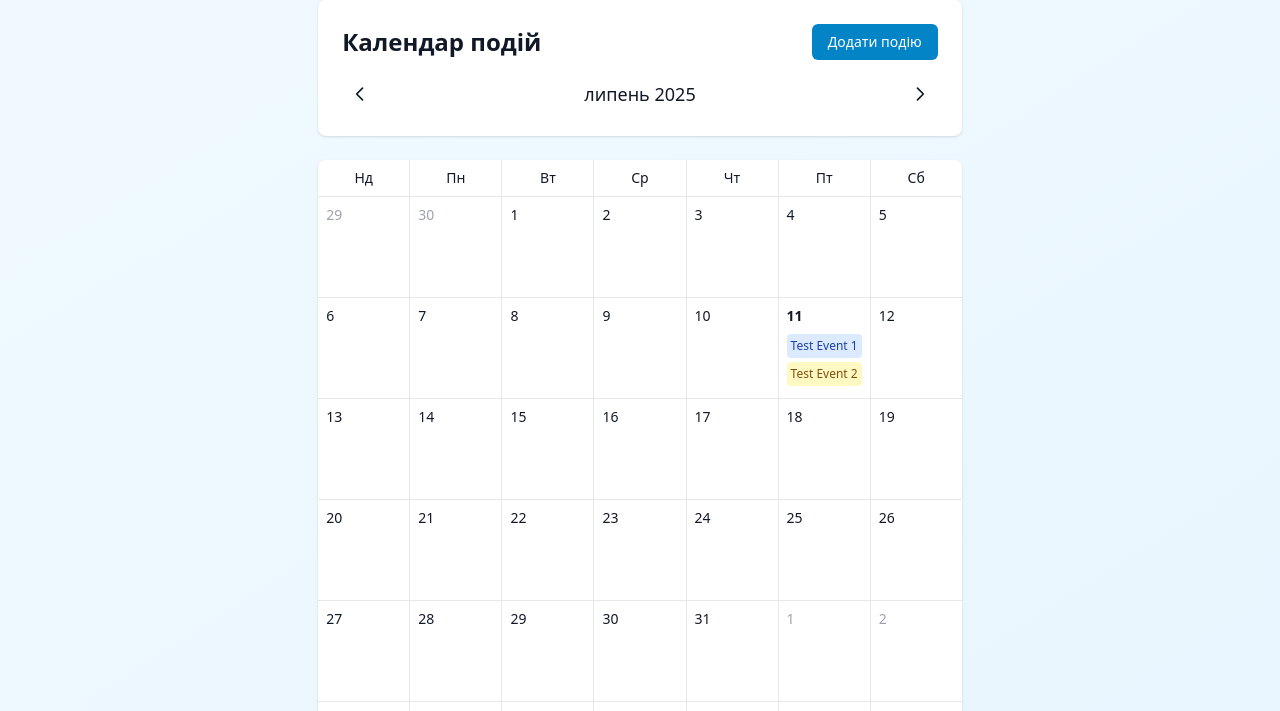
it: CalendarView › deletes event when delete button is clicked
Click the text with class "truncate" showing "Test Event 1" at [824, 346], box [787,334,862,358]
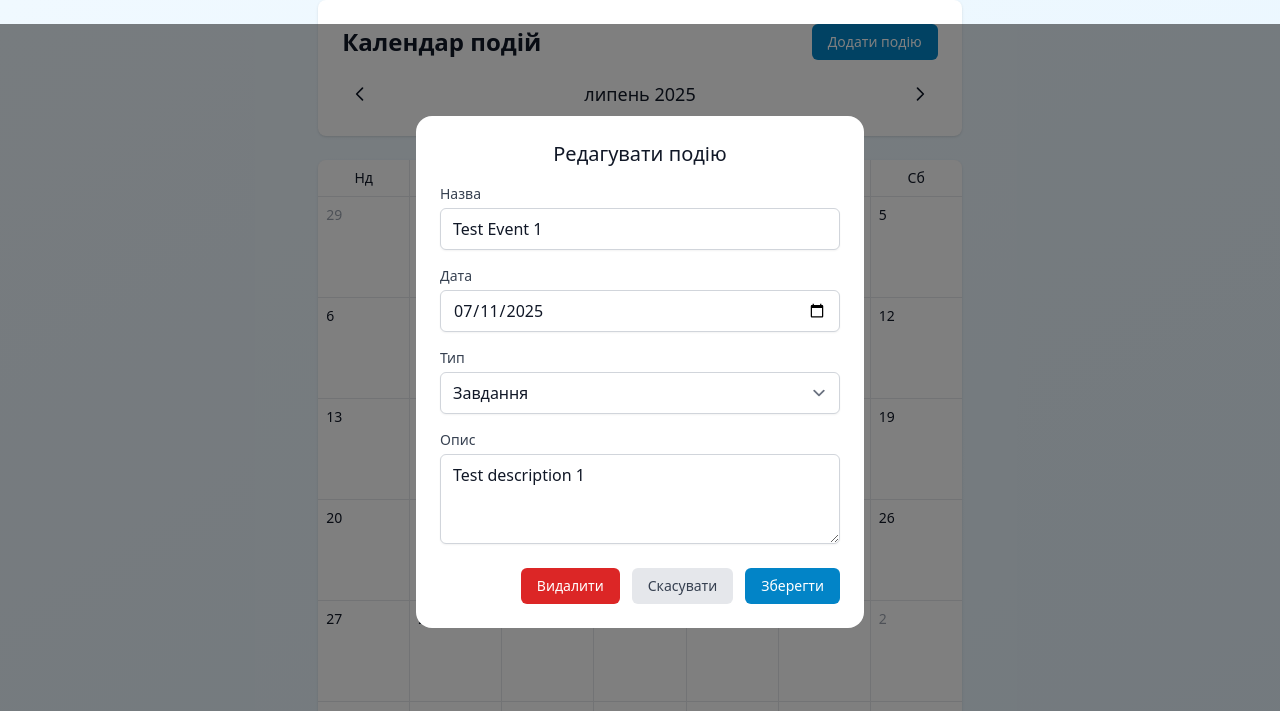
Expected: the button with class "btn-danger" is shown
Click the button with class "btn-danger" at [570, 586], box [521,568,620,604]
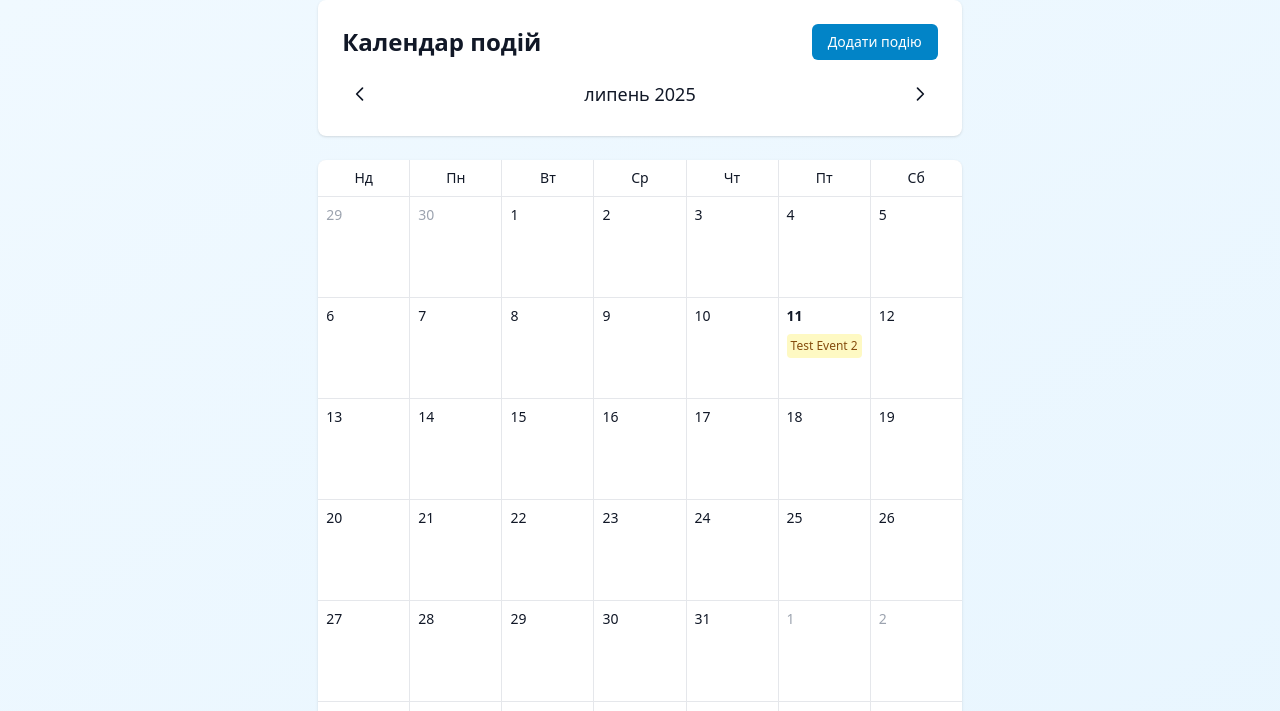
Expected: the number of elements with class "truncate" is 1, [787,334,862,358]
